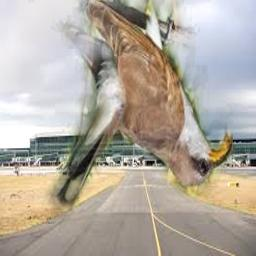Cuckoo: (28, 0, 233, 256)
